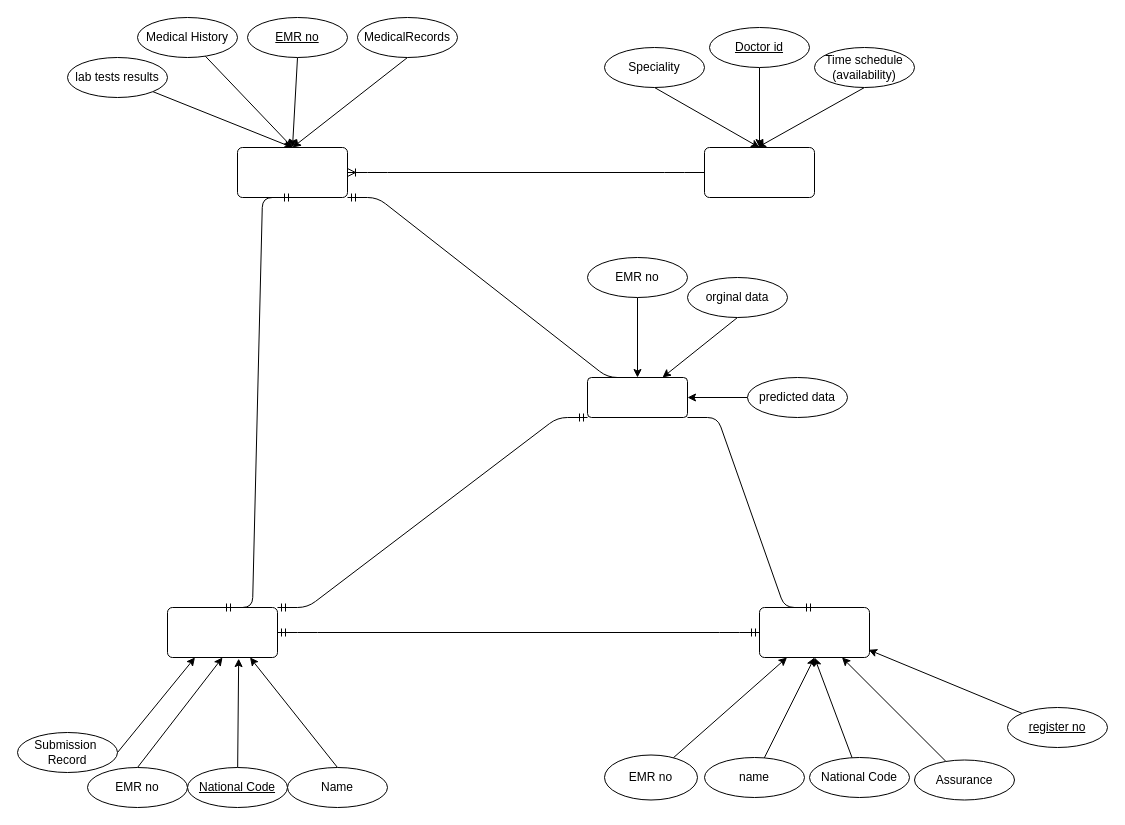
Some shapes in this 1125 by 825 pixel diagram are drawn without their labels. Here are the shapes that lost their labels. From the top down, the box of each, then its label:
(236, 146, 348, 198): EMR
(704, 146, 814, 198): Doctor
(586, 376, 688, 418): Al dectection
(166, 606, 278, 658): Patient
(758, 606, 870, 658): Registration
